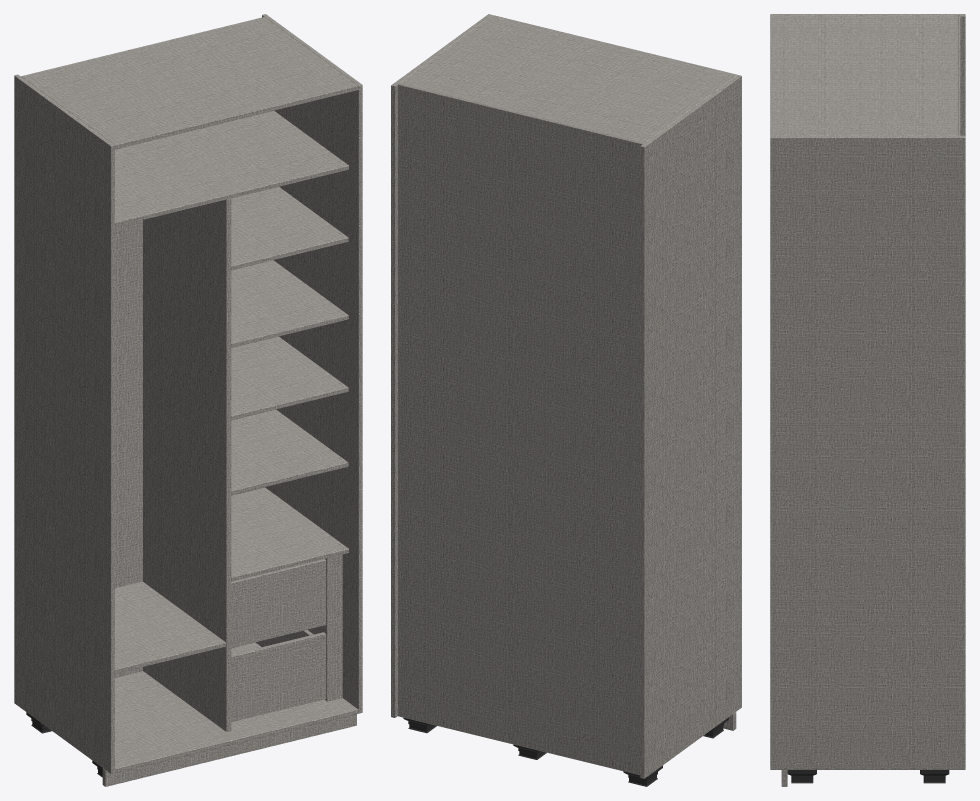
File: cbib12165.gltf
The picture shows the model from 3 angles, left to right: view 1: azimuth 30°, elevation 25°; view 2: azimuth 150°, elevation 25°; view 3: azimuth 270°, elevation 25°; orthographic projection.
Parts seen in each view (by area): view 1: CBIB12165; view 2: CBIB12165; view 3: CBIB12165.
Part boxes in pixels (bbox=[...]): CBIB12165: bbox=[14, 14, 362, 786]; CBIB12165: bbox=[391, 14, 741, 786]; CBIB12165: bbox=[770, 14, 965, 786].
Size of the model in its own units: 0.9 by 2.2 by 0.6.
3 materials, 2 textured.
